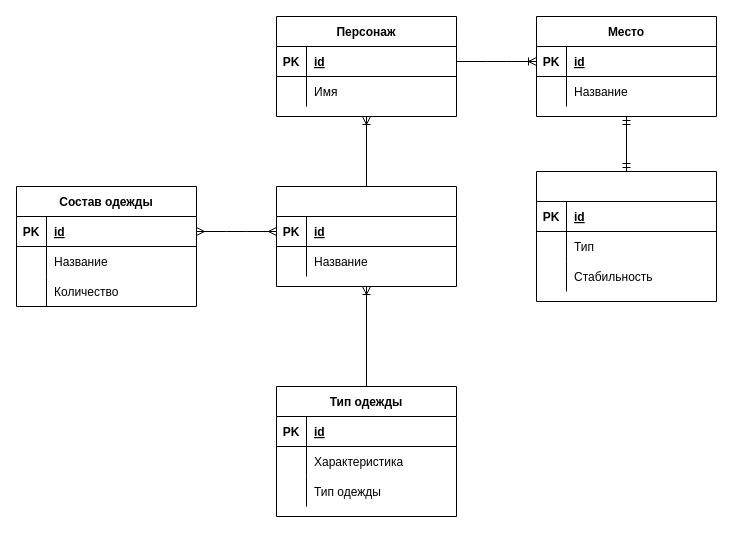
The diagram is 733 pixels wide and 533 high, and some of its shapes have lost their labels. Here are the shapes that lost their labels. From the top down, the box of each, then its label:
(276, 186, 456, 286): Одежда
(536, 170, 716, 302): Погода
